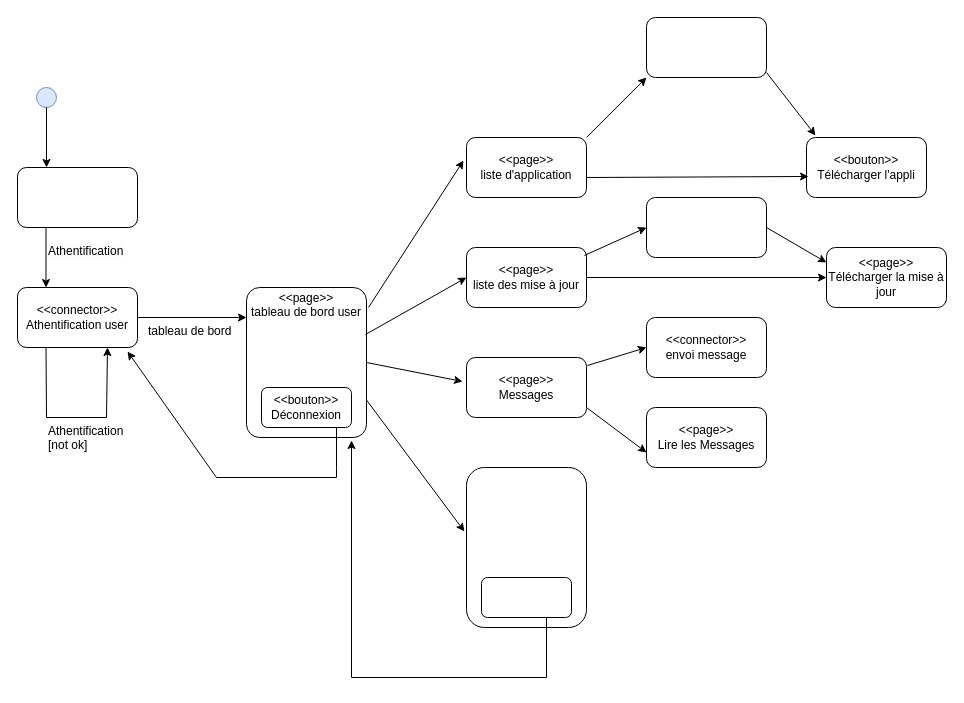
Some shapes in this 964 by 703 pixel diagram are drawn without their labels. Here are the shapes that lost their labels. From the top down, the box of each, then its label:
(646, 16, 766, 78): <<page>> Voir l'application
(16, 166, 138, 228): <<page>> Acceuil
(646, 196, 766, 258): <<page>> Voir la mise à jour
(466, 466, 586, 628): <<page>> Modifier profile
(480, 576, 572, 618): <<bouton>> Modifier
